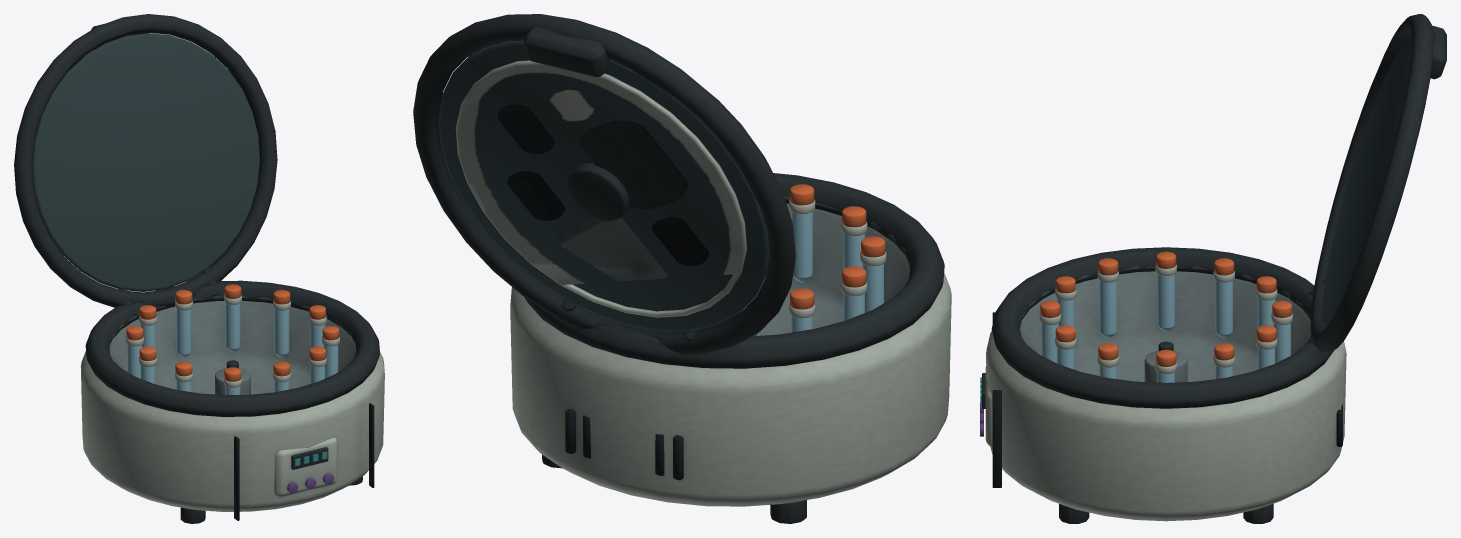
File: centrifuge.obj
3 views of the same model, side by side, from view 1: azimuth 30°, elevation 25°; view 2: azimuth 150°, elevation 25°; view 3: azimuth 270°, elevation 25° (orthographic). The views are drawn at different scales.
Parts seen in each view (by area): view 1: Lid_smoky_window, Centrifuge_body, Lid_outer_frame, Thick_rubber_opening, Control_module, Rounded_glass_tube_01, Rounded_glass_tube_03, Rounded_glass_tube_02, Rotor_hub, Front_casing_seam.001, Front_casing_seam, Display; view 2: Centrifuge_body, Lid_smoky_window, Lid_raised_ring, Lid_outer_frame, Thick_rubber_opening, Lid_handle, Lid_central_fitting, Rounded_glass_tube_09, Rounded_glass_tube_07, Rubber_foot.001; view 3: Centrifuge_body, Thick_rubber_opening, Lid_outer_frame, Lid_smoky_window, Rounded_glass_tube_05, Rounded_glass_tube_07, Rounded_glass_tube_06, Front_casing_seam.001, Rotor_hub, Lid_handle, Rounded_glass_tube_09, Rounded_glass_tube_03.
Part boxes in pixels (left/top/right/bottom): Lid_smoky_window: left=32, top=33, right=260, bottom=291; Centrifuge_body: left=80, top=300, right=384, bottom=511; Lid_outer_frame: left=14, top=14, right=277, bottom=307; Thick_rubber_opening: left=85, top=280, right=379, bottom=416; Control_module: left=274, top=437, right=337, bottom=497; Rounded_glass_tube_01: left=274, top=309, right=289, bottom=357; Rounded_glass_tube_03: left=176, top=309, right=191, bottom=357; Rounded_glass_tube_02: left=225, top=303, right=240, bottom=351; Rotor_hub: left=215, top=368, right=250, bottom=395; Front_casing_seam.001: left=369, top=403, right=374, bottom=487; Front_casing_seam: left=234, top=436, right=239, bottom=520; Display: left=291, top=447, right=328, bottom=469; Centrifuge_body: left=510, top=203, right=951, bottom=506; Lid_smoky_window: left=438, top=41, right=769, bottom=331; Lid_raised_ring: left=455, top=60, right=746, bottom=317; Lid_outer_frame: left=413, top=14, right=795, bottom=354; Thick_rubber_opening: left=524, top=173, right=944, bottom=368; Lid_handle: left=523, top=26, right=609, bottom=77; Lid_central_fitting: left=567, top=162, right=629, bottom=221; Rounded_glass_tube_09: left=791, top=211, right=812, bottom=282; Rounded_glass_tube_07: left=862, top=263, right=883, bottom=312; Rubber_foot.001: left=770, top=500, right=806, bottom=523; Centrifuge_body: left=986, top=271, right=1346, bottom=521; Thick_rubber_opening: left=991, top=247, right=1334, bottom=408; Lid_outer_frame: left=1310, top=14, right=1434, bottom=351; Lid_smoky_window: left=1322, top=37, right=1411, bottom=327; Rounded_glass_tube_05: left=1215, top=280, right=1232, bottom=338; Rounded_glass_tube_07: left=1099, top=280, right=1116, bottom=338; Rounded_glass_tube_06: left=1157, top=274, right=1174, bottom=331; Front_casing_seam.001: left=992, top=390, right=1001, bottom=487; Rotor_hub: left=1144, top=350, right=1187, bottom=382; Lid_handle: left=1430, top=26, right=1446, bottom=79; Rounded_glass_tube_09: left=1041, top=323, right=1058, bottom=363; Rounded_glass_tube_03: left=1273, top=323, right=1290, bottom=363.
Size of the model in its own units: 0.4696 by 0.6351 by 0.6081.
Materials: 5 (1 with a texture image).
